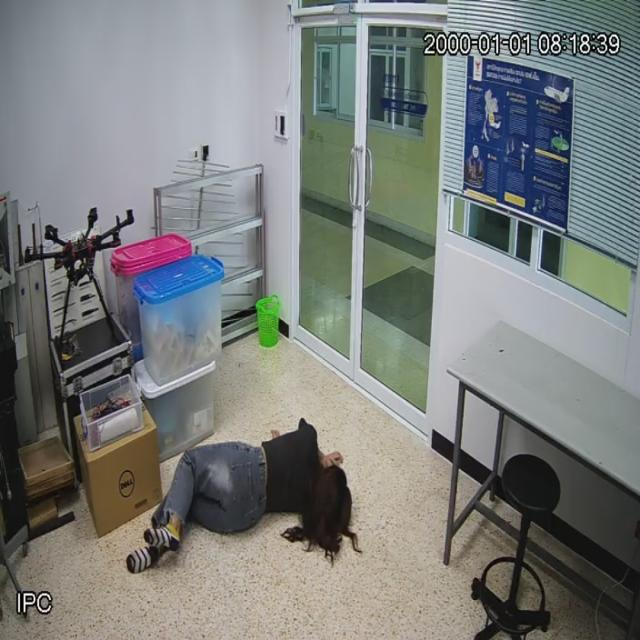fall: (146, 418, 352, 559)
